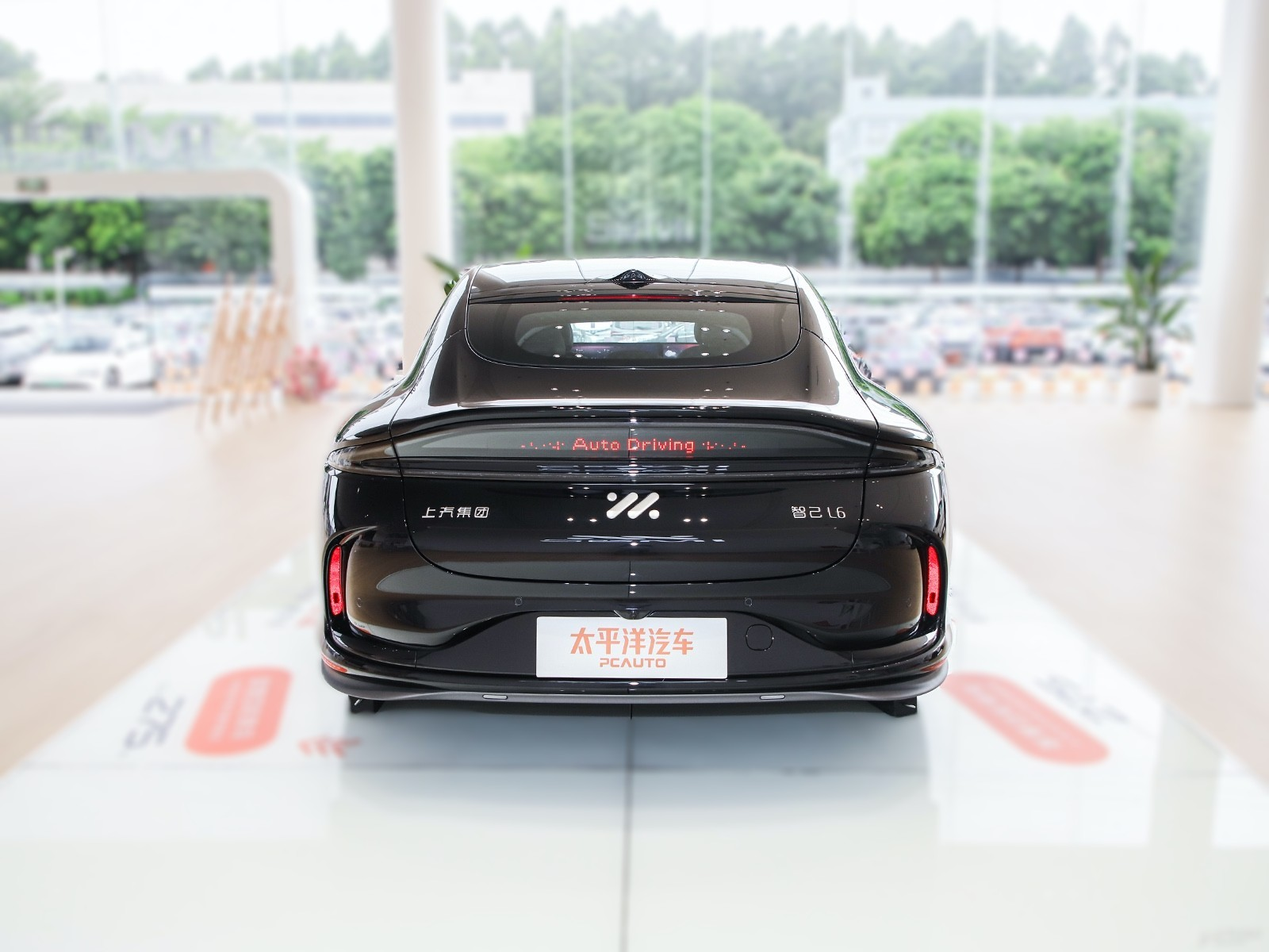IM: (607, 493, 658, 518)
